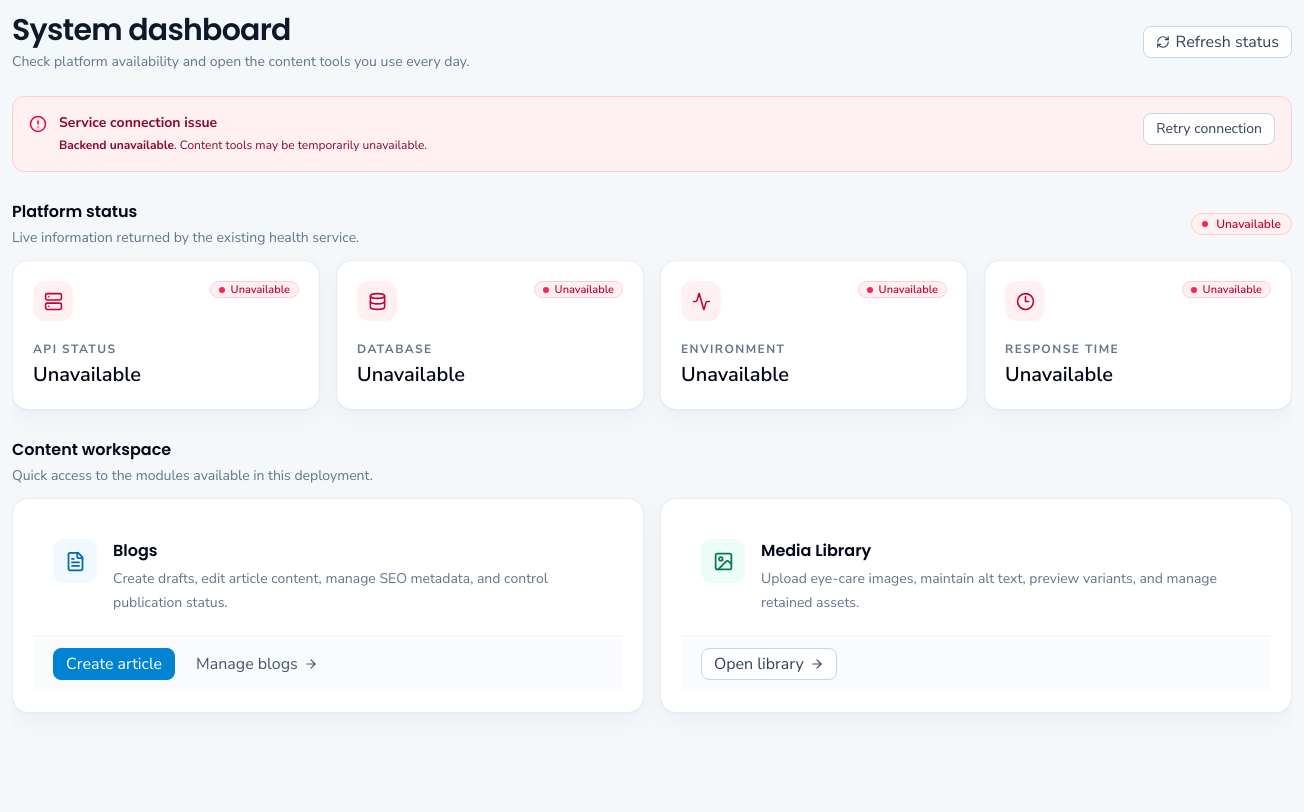
HealthDashboard › retries successfully after the backend becomes available
Expected: the text "Backend unavailable" is shown, left=59, top=137, right=174, bottom=153
Click the button "Retry connection": (1209, 129) left=1143, top=113, right=1275, bottom=145
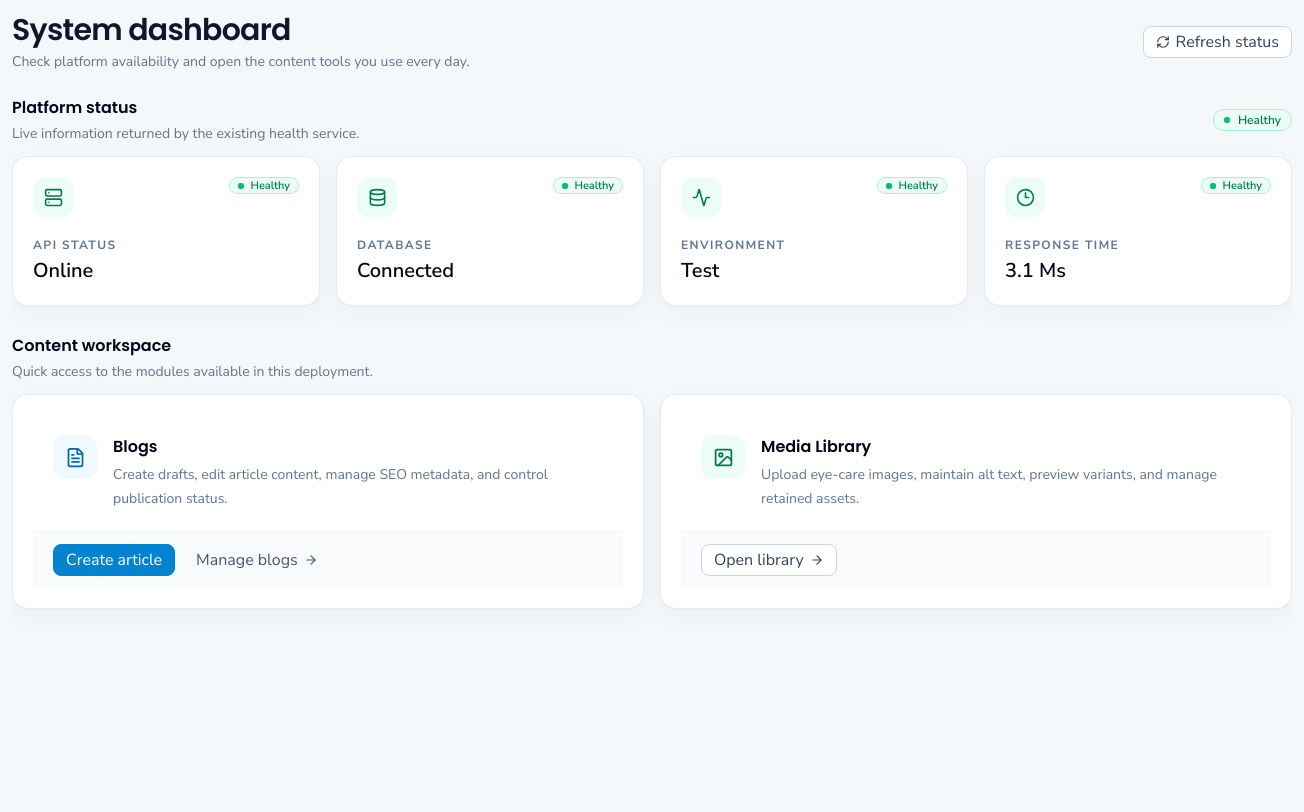
Expected: the text "Online" is shown, left=33, top=257, right=93, bottom=284
